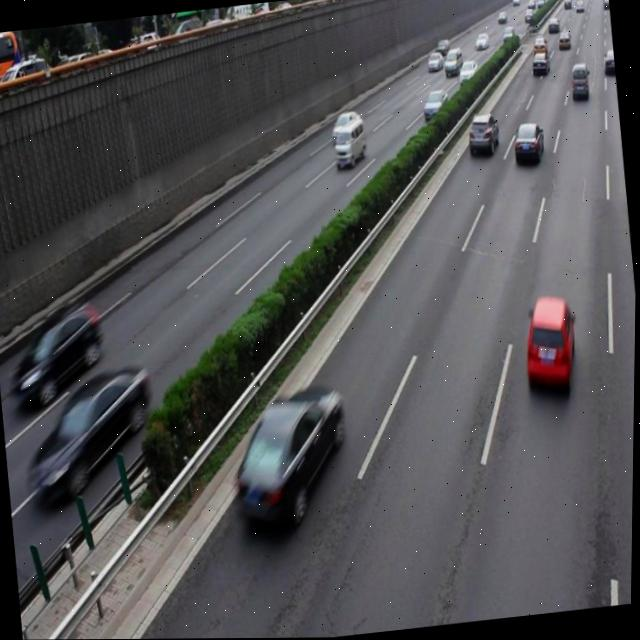car: (225, 381, 355, 533), (35, 363, 162, 497), (14, 294, 107, 401), (518, 293, 580, 396), (464, 111, 499, 157), (511, 120, 544, 167), (330, 110, 361, 145)
truck: (332, 119, 367, 169)
